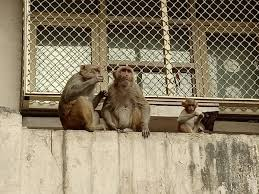monkey: (49, 39, 105, 149), (107, 45, 162, 130), (164, 76, 229, 134)
